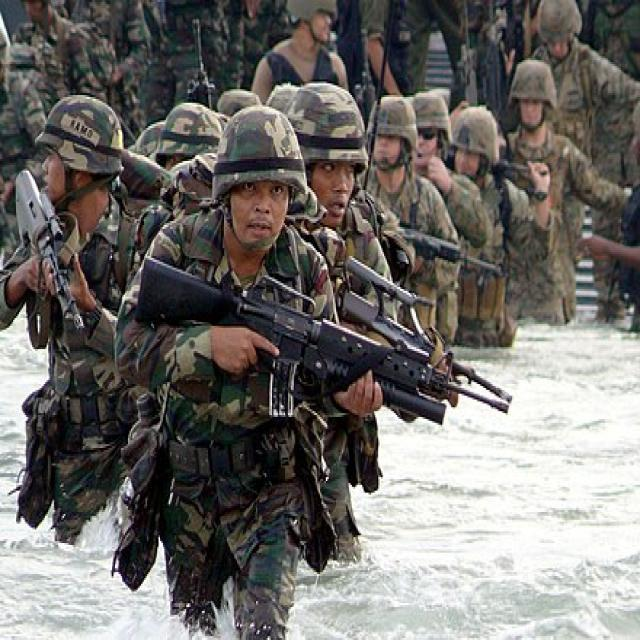m16: (100, 234, 510, 483)
